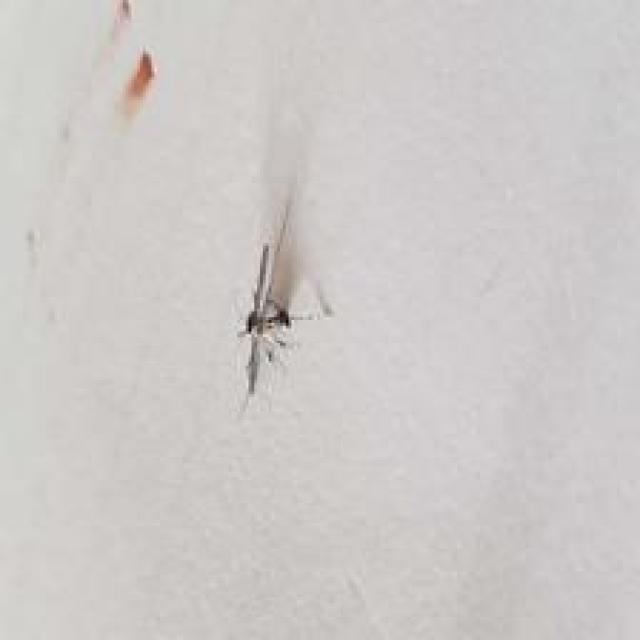Aedes albopictus: (234, 174, 334, 406)
